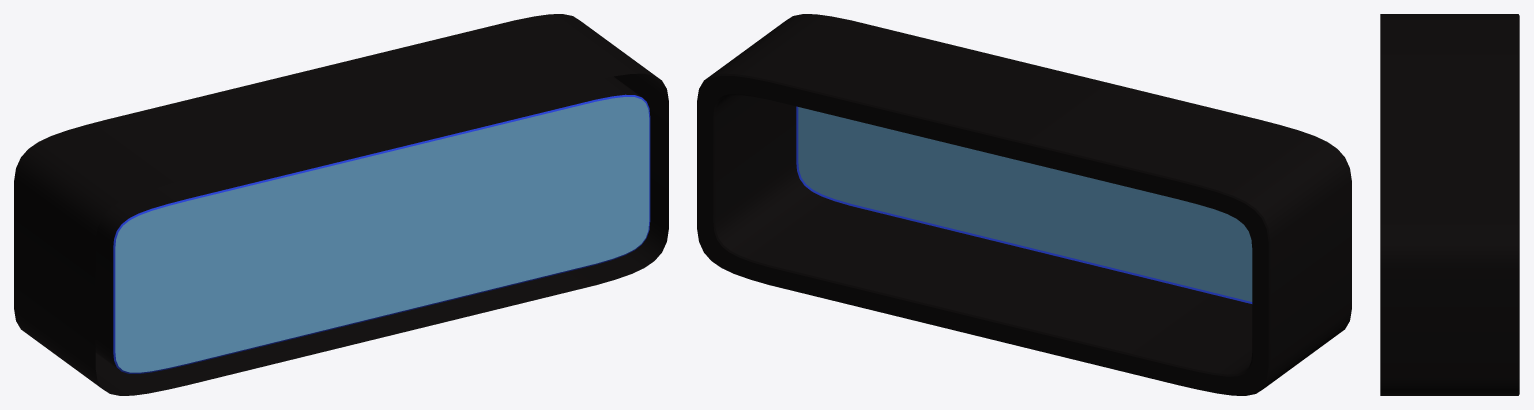
Rendered from BarShelft.fbx.
3 renders of one model, left to right at view 1: azimuth 30°, elevation 25°; view 2: azimuth 150°, elevation 25°; view 3: azimuth 270°, elevation 25°, orthographic. The views are drawn at different scales.
Parts seen in each view (by area): view 1: Plane.193; view 2: Plane.193; view 3: Plane.193.
Part boxes in pixels (bbox=[...]): Plane.193: bbox=[14, 14, 668, 395]; Plane.193: bbox=[697, 14, 1351, 395]; Plane.193: bbox=[1380, 14, 1519, 395].
Size of the model in its own units: 181 by 61.97 by 44.8.
Materials: 2 (2 with a texture image).
